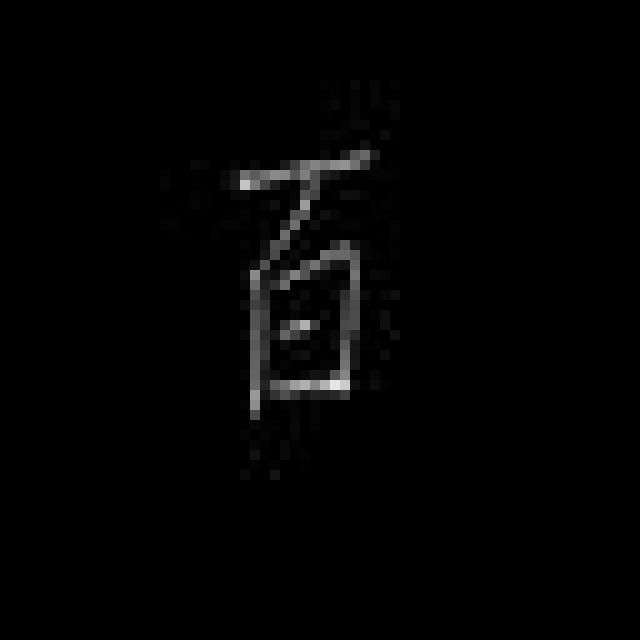100 -a hundred-: (216, 137, 378, 425)
